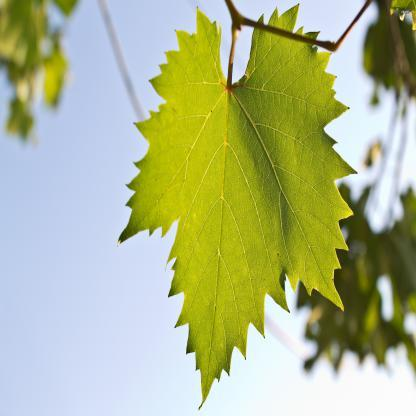grape leaf black rot: (101, 6, 354, 405)
